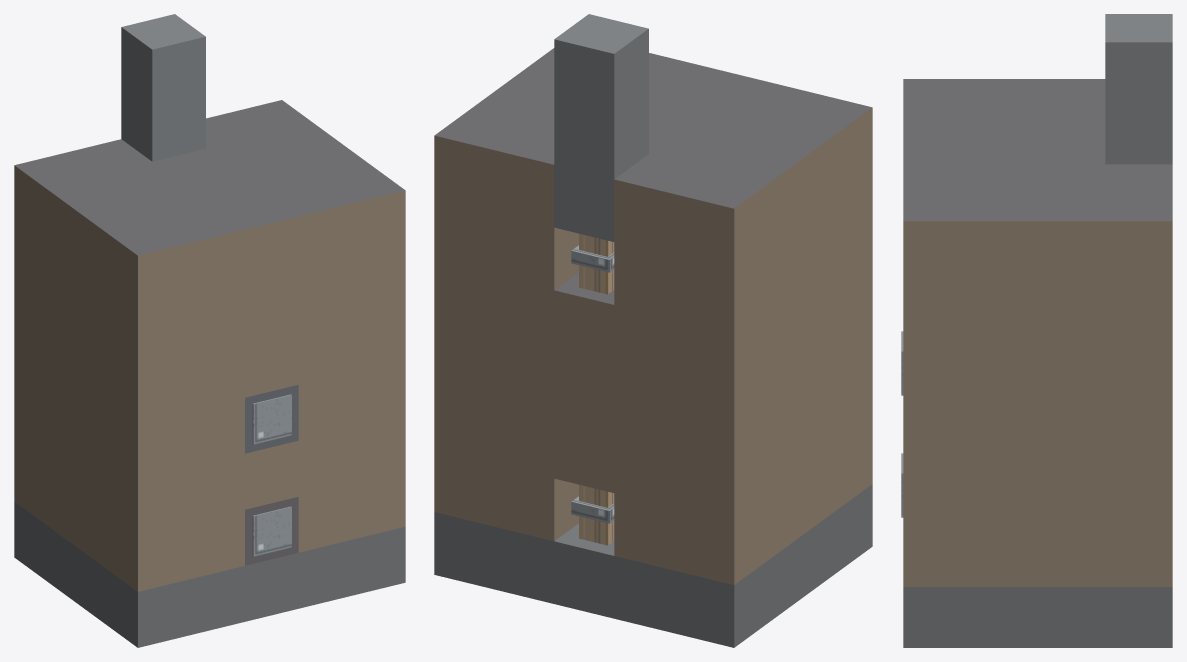
Rendered from electrostatic_precipitator.obj.
The picture shows the model from 3 angles, left to right: view 1: azimuth 30°, elevation 25°; view 2: azimuth 150°, elevation 25°; view 3: azimuth 270°, elevation 25°; orthographic projection. The views are drawn at different scales.
Visible parts, largest first — view 1: electrostatic_precipitator; view 2: electrostatic_precipitator; view 3: electrostatic_precipitator.
Part boxes in pixels (box(x1,y1,x2,y2)): electrostatic_precipitator: box(14, 14, 405, 647); electrostatic_precipitator: box(434, 14, 872, 647); electrostatic_precipitator: box(901, 14, 1172, 647).
Size of the model in its own units: 5 by 9 by 4.03.
